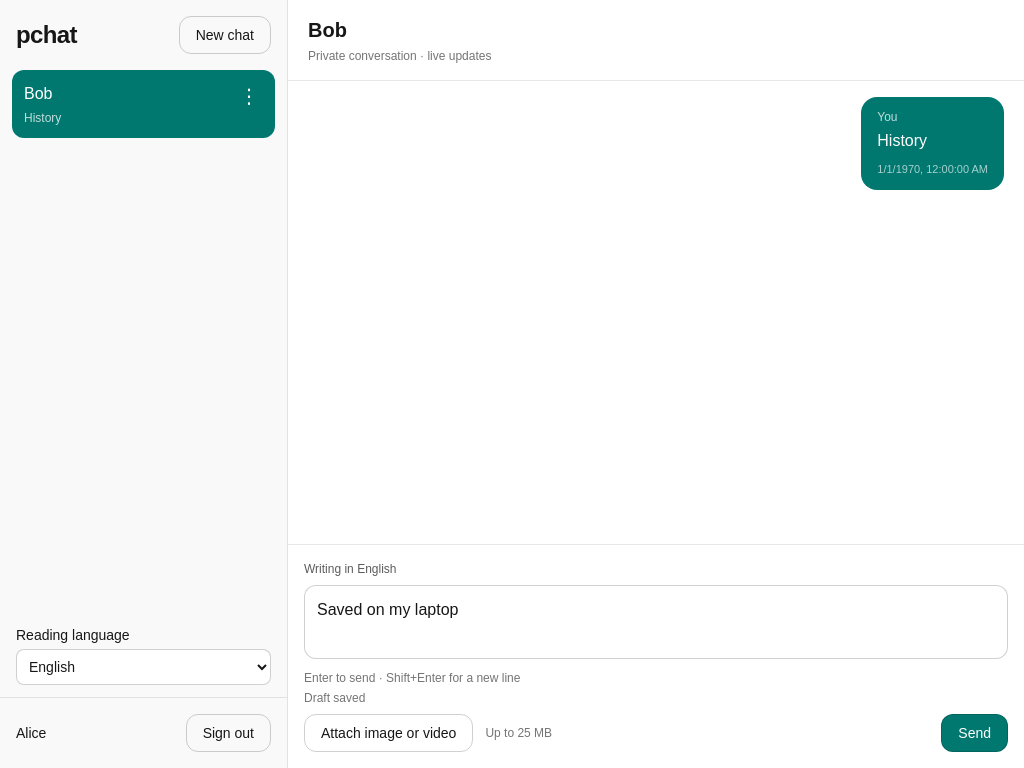
Test case: two rendered connections restore a saved draft and update each other after edits and sends
Replace the text in the text box with "Typed on the laptop" at coordinates (656, 622), box x1=304 y1=585 x2=1008 y2=659
(page scrolled)
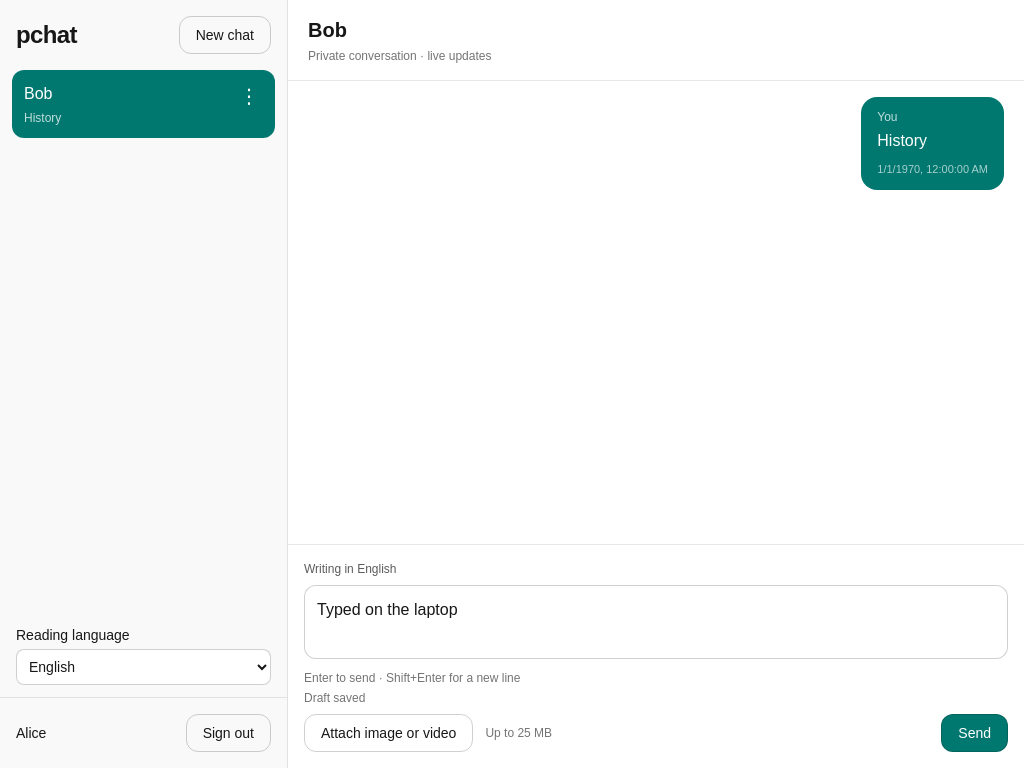
Check: the text box holds "Typed on the laptop", box x1=304 y1=585 x2=1008 y2=659
Click the button "Send" at coordinates (975, 733), box x1=941 y1=714 x2=1008 y2=752
(page scrolled)
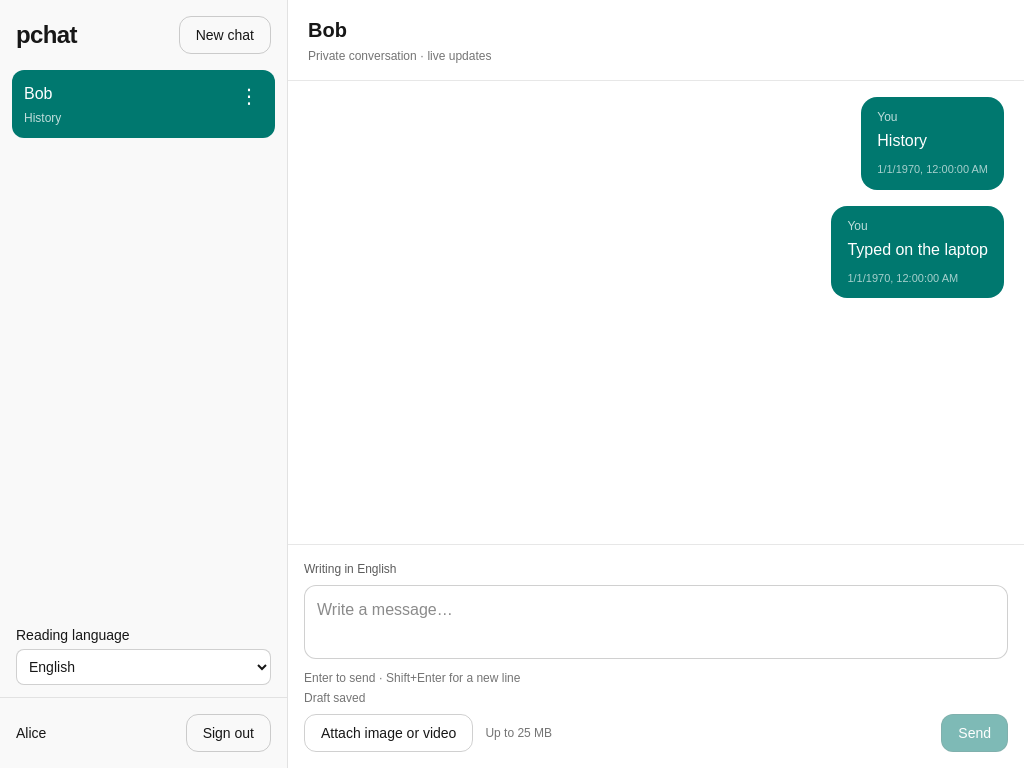
Check: the text "Typed on the laptop" is shown, box x1=847 y1=238 x2=988 y2=262
